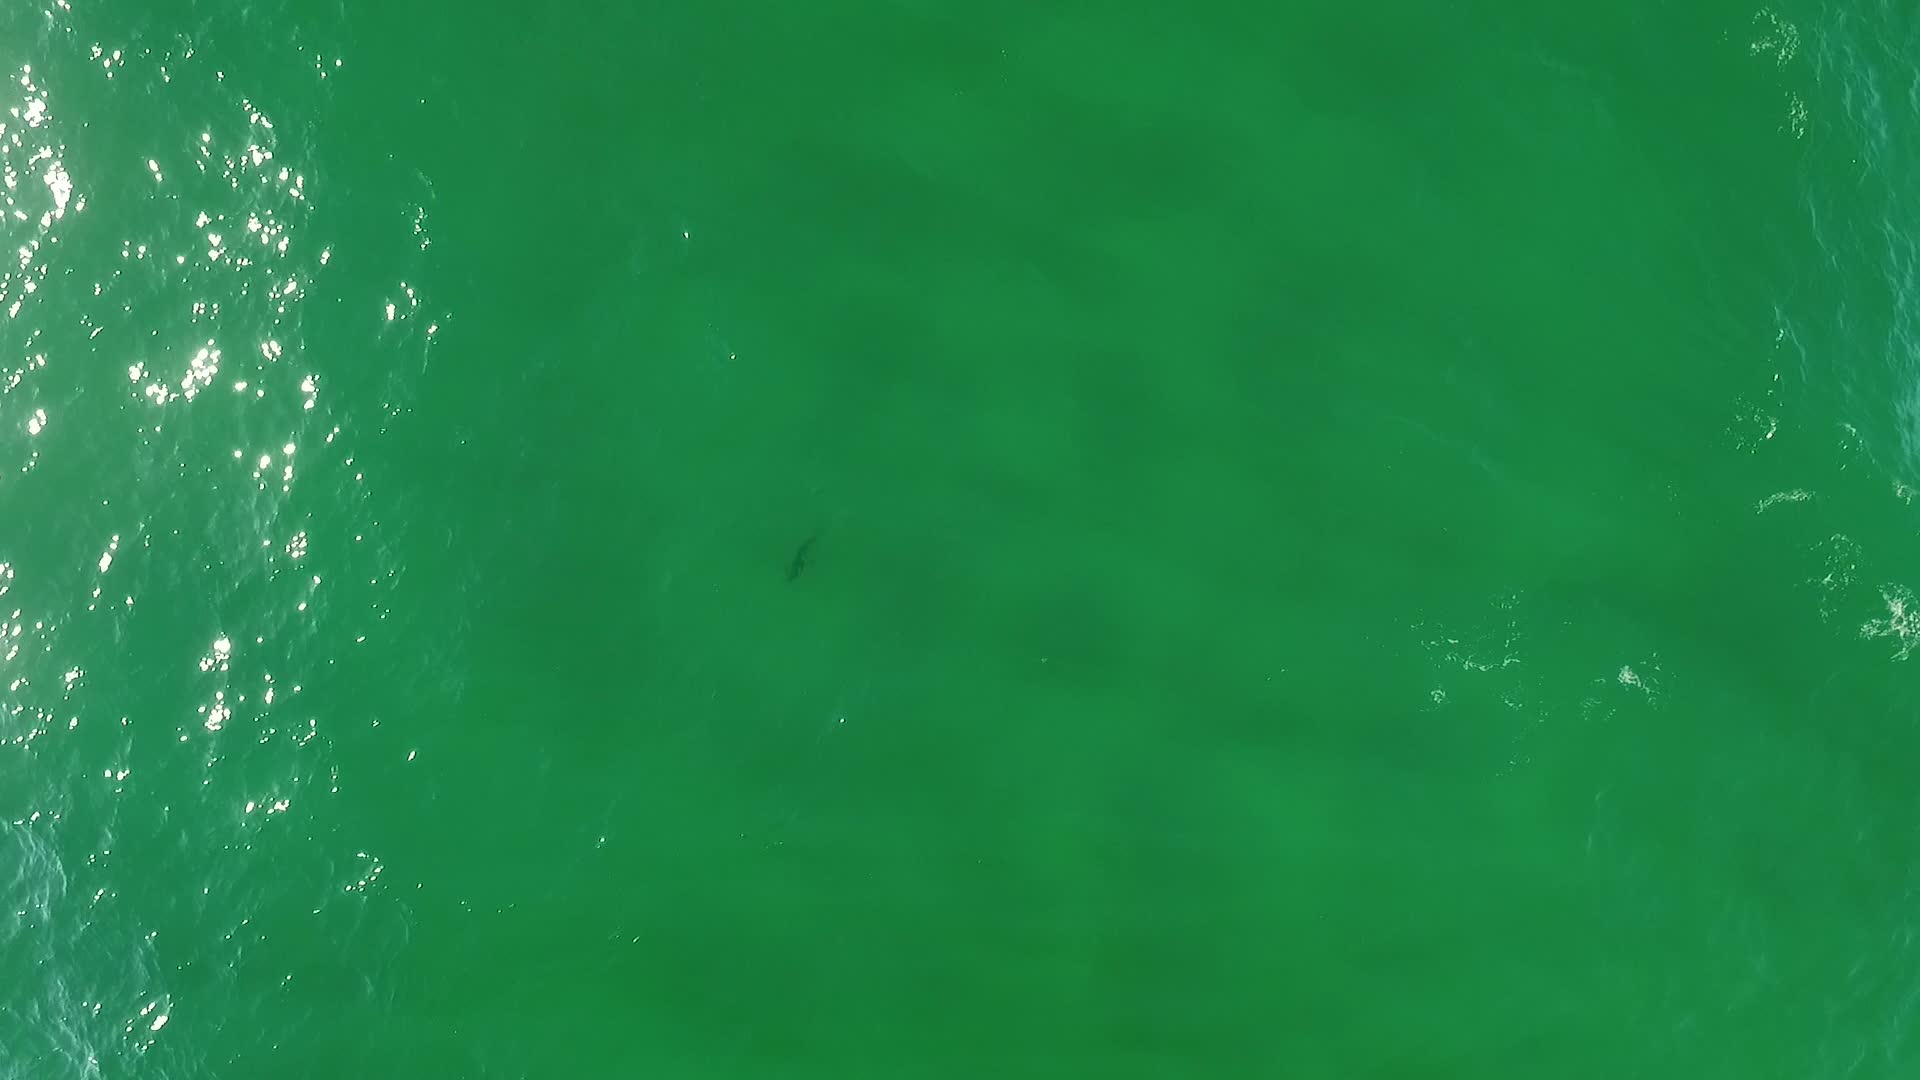shark: (777, 533, 824, 584)
